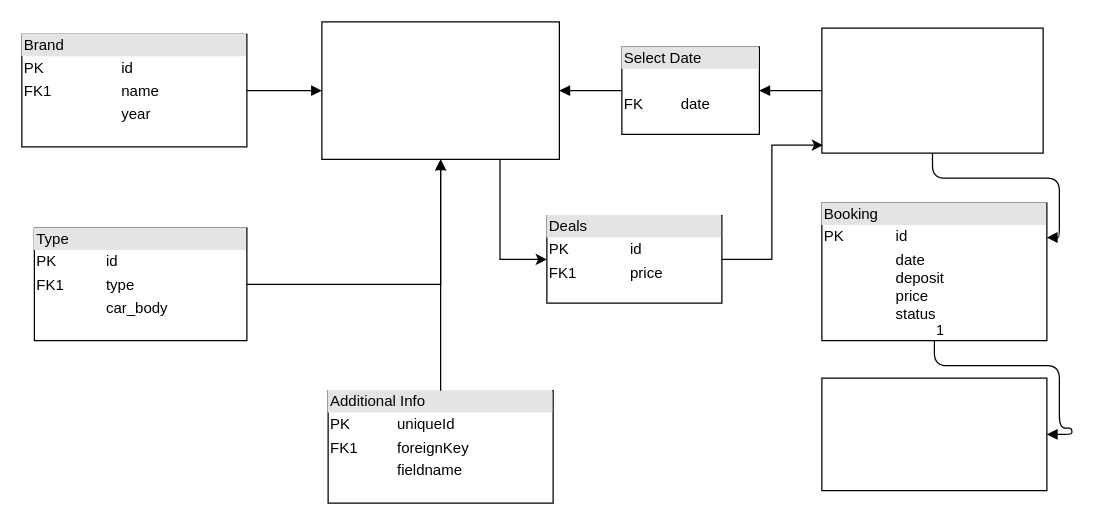
Some shapes in this 1104 by 525 pixel diagram are drawn without their labels. Here are the shapes that lost their labels. From the top down, the centre of each, then its label:
point (440, 90): Vehicle PK id FK1 type brand rental_duration additional_info
point (932, 90): Customer PK id FK1 phone_num email full_name booking_date
point (934, 434): Status PK id FK1 is_it_taken car_contiditon
